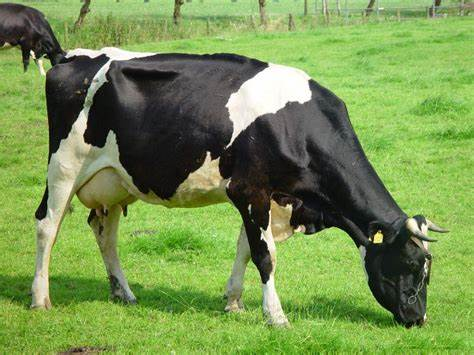background: (125, 85, 291, 205)
